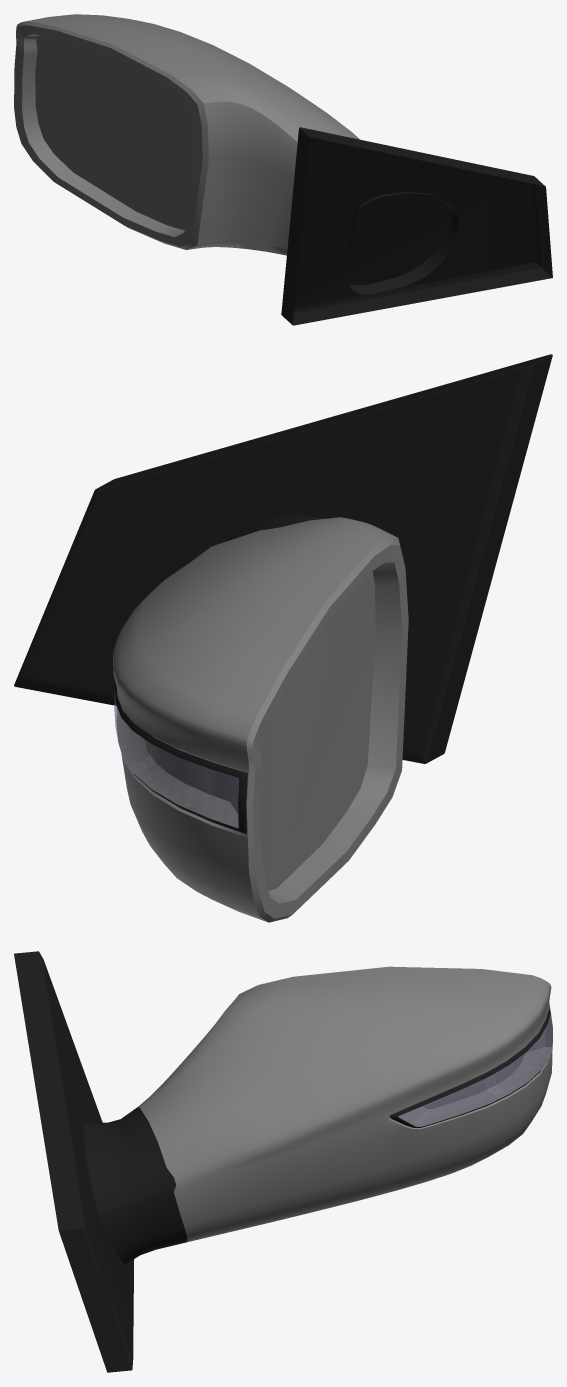
The picture shows the model from 3 angles, top to bottom: view 1: azimuth 30°, elevation 25°; view 2: azimuth 150°, elevation 25°; view 3: azimuth 270°, elevation 25°; orthographic projection. The views are drawn at different scales.
Visible parts, largest first — view 1: E317_261I_L_E317_261I_L_3_D, E317_261I_L_E317_261I_L_2_DaS, E317_261I_L_E317_261I_L_4_DTaSI, E317_261I_L_E317_261I_L_2_DaS_E; view 2: E317_261I_L_E317_261I_L_3_D, E317_261I_L_E317_261I_L_2_DaS, E317_261I_L_E317_261I_L_4_DTaSI, E317_261I_L_E317_261I_L_2_DaS_E, E317_261I_L_E317_261I_L_5_DTaSI, E317_261I_L_1_N_E317_261I_L; view 3: E317_261I_L_E317_261I_L_2_DaS, E317_261I_L_E317_261I_L_3_D, E317_261I_L_1_N_E317_261I_L, E317_261I_L_E317_261I_L_5_DTaSI.
Boxes of the visible parts, bbox=[...] form: E317_261I_L_E317_261I_L_3_D: bbox=[281, 127, 552, 325]; E317_261I_L_E317_261I_L_2_DaS: bbox=[14, 14, 359, 255]; E317_261I_L_E317_261I_L_4_DTaSI: bbox=[35, 35, 194, 230]; E317_261I_L_E317_261I_L_2_DaS_E: bbox=[16, 21, 208, 249]; E317_261I_L_E317_261I_L_3_D: bbox=[14, 354, 552, 834]; E317_261I_L_E317_261I_L_2_DaS: bbox=[113, 517, 408, 922]; E317_261I_L_E317_261I_L_4_DTaSI: bbox=[260, 571, 375, 890]; E317_261I_L_E317_261I_L_2_DaS_E: bbox=[124, 537, 401, 922]; E317_261I_L_E317_261I_L_5_DTaSI: bbox=[114, 691, 238, 828]; E317_261I_L_1_N_E317_261I_L: bbox=[116, 706, 239, 828]; E317_261I_L_E317_261I_L_2_DaS: bbox=[138, 966, 552, 1242]; E317_261I_L_E317_261I_L_3_D: bbox=[14, 951, 550, 1372]; E317_261I_L_1_N_E317_261I_L: bbox=[398, 1014, 552, 1126]; E317_261I_L_E317_261I_L_5_DTaSI: bbox=[398, 1014, 552, 1126].
Bounding box in the file's own units: 30.26 × 20.64 × 37.61.
